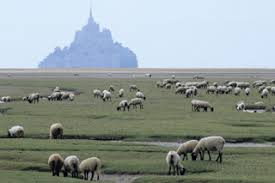sheep: (191, 135, 229, 162), (77, 156, 104, 181), (164, 150, 185, 175), (62, 153, 81, 179), (46, 153, 64, 176), (6, 124, 27, 139), (194, 99, 215, 113), (49, 123, 65, 137), (46, 90, 62, 103), (128, 97, 144, 110), (115, 99, 128, 113), (27, 92, 40, 104), (258, 87, 270, 100), (92, 89, 103, 100), (204, 86, 216, 96), (174, 86, 186, 96), (102, 90, 112, 101), (128, 84, 139, 93), (184, 87, 193, 98), (117, 87, 125, 98), (242, 87, 251, 96), (234, 87, 241, 97), (67, 92, 74, 100)
